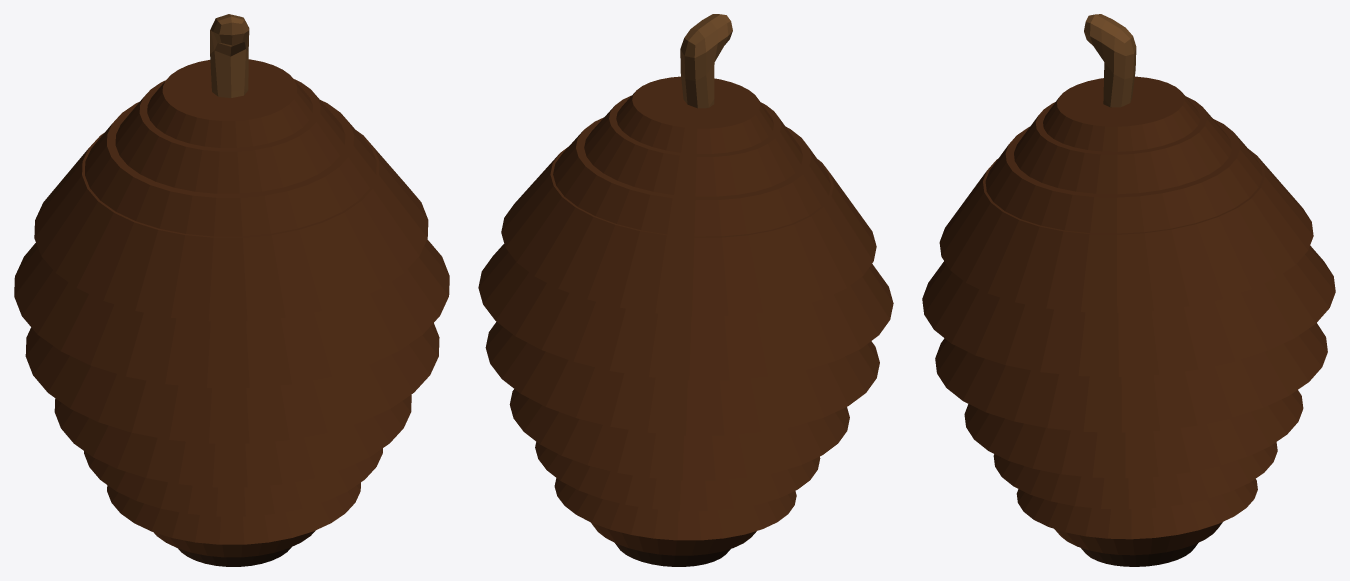
Rendered from SpurceCone.fbx.
The picture shows the model from 3 angles, left to right: view 1: azimuth 30°, elevation 25°; view 2: azimuth 150°, elevation 25°; view 3: azimuth 270°, elevation 25°; orthographic projection. The views are drawn at different scales.
Visible parts, largest first — view 1: Circle, Cube; view 2: Circle, Cube; view 3: Circle, Cube.
Part boxes in pixels (x1,y1,x2,y2): Circle: (14, 59, 449, 566); Cube: (210, 14, 249, 97); Circle: (478, 76, 893, 566); Cube: (680, 14, 732, 108); Circle: (922, 76, 1335, 566); Cube: (1084, 14, 1136, 107).
Size of the model in its own units: 200 by 277 by 200.
